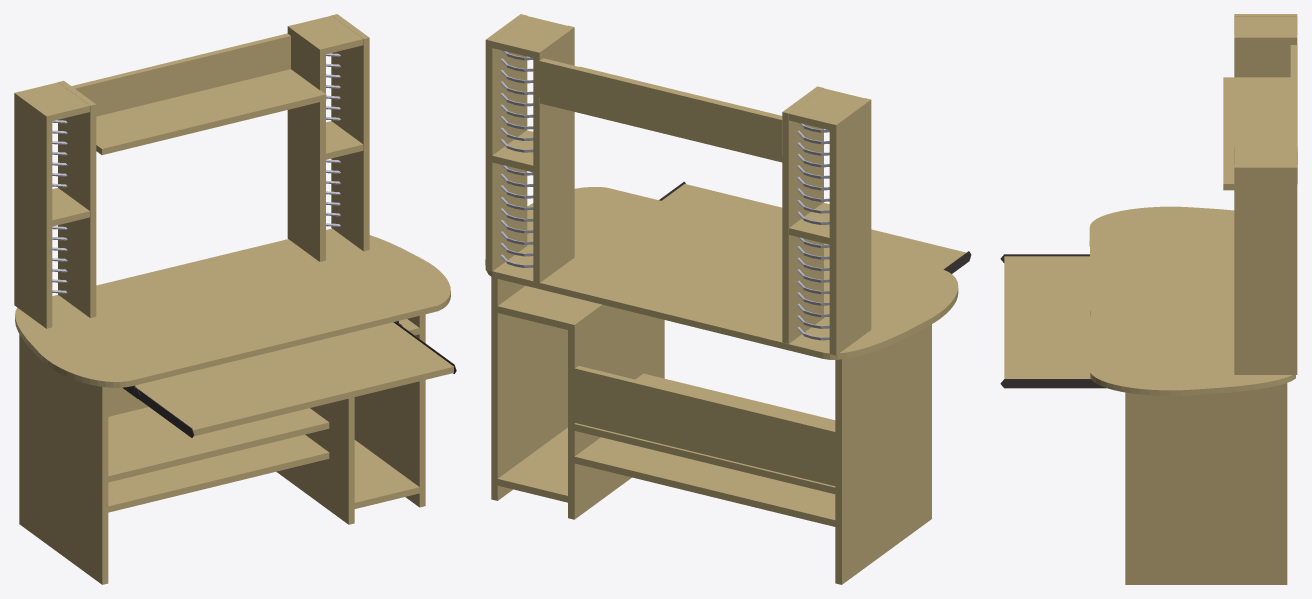
The model's file is sweethome3d-contributions-computer-desk-173.glb.
The picture shows the model from 3 angles, left to right: view 1: azimuth 30°, elevation 25°; view 2: azimuth 150°, elevation 25°; view 3: azimuth 270°, elevation 25°; orthographic projection. The views are drawn at different scales.
Visible parts, largest first — view 1: Circle_Wood_Wood_Wood_Circle_Wood_Wood_Wood_Wood, Cube.008_Cube.009_Woo_Cube.008_Cube.009_Woo_Wood, Cube_Cube.001_Wood_Wo_Cube_Cube.001_Wood_Wo_Wood, Cube.017_Cube.019_Woo_Cube.017_Cube.019_Woo_Wood, Cube.003_Cube.004_Woo_Cube.003_Cube.004_Woo_Wood, Cube.007_Cube.008_Woo_Cube.007_Cube.008_Woo_Wood, Cube.018_Cube.020_Woo_Cube.018_Cube.020_Woo_Wood, Cube.016_Cube.018_Woo_Cube.016_Cube.018_Woo_Wood, Cube.010_Cube.012_Woo_Cube.010_Cube.012_Woo_Wood, Cube.015_Cube.017_Woo_Cube.015_Cube.017_Woo_Wood, Cube.006_Cube.007_Woo_Cube.006_Cube.007_Woo_Wood, Cube.001_Cube.002_Woo_Cube.001_Cube.002_Woo_Wood (+10 smaller); view 2: Circle_Wood_Wood_Wood_Circle_Wood_Wood_Wood_Wood, Cube_Cube.001_Wood_Wo_Cube_Cube.001_Wood_Wo_Wood, Cube.009_Cube.011_Woo_Cube.009_Cube.011_Woo_Wood, Cube.001_Cube.002_Woo_Cube.001_Cube.002_Woo_Wood, Cube.003_Cube.004_Woo_Cube.003_Cube.004_Woo_Wood, Cube.018_Cube.020_Woo_Cube.018_Cube.020_Woo_Wood, Cube.002_Cube.003_Woo_Cube.002_Cube.003_Woo_Wood, Cube.006_Cube.007_Woo_Cube.006_Cube.007_Woo_Wood, Cube.016_Cube.018_Woo_Cube.016_Cube.018_Woo_Wood, Cube.015_Cube.017_Woo_Cube.015_Cube.017_Woo_Wood, Cube.010_Cube.012_Woo_Cube.010_Cube.012_Woo_Wood, Cube.008_Cube.009_Woo_Cube.008_Cube.009_Woo_Wood (+12 smaller); view 3: Cube.001_Cube.002_Woo_Cube.001_Cube.002_Woo_Wood, Circle_Wood_Wood_Wood_Circle_Wood_Wood_Wood_Wood, Cube.015_Cube.017_Woo_Cube.015_Cube.017_Woo_Wood, Cube.008_Cube.009_Woo_Cube.008_Cube.009_Woo_Wood, Cube.017_Cube.019_Woo_Cube.017_Cube.019_Woo_Wood, Cube.010_Cube.012_Woo_Cube.010_Cube.012_Woo_Wood, Cube.012_Cube.014_Woo_Cube.012_Cube.014_Woo_Wood, Cube.013_Cube.015_Woo_Cube.013_Cube.015_Woo_Wood, Circle.004_Circle.006_Circle.004_Circle.006_black_metal, Cube.018_Cube.020_Woo_Cube.018_Cube.020_Woo_Wood.
Part boxes in pixels (<box>): Circle_Wood_Wood_Wood_Circle_Wood_Wood_Wood_Wood: <box>15,228,450,387</box>; Cube.008_Cube.009_Woo_Cube.008_Cube.009_Woo_Wood: <box>135,322,453,436</box>; Cube_Cube.001_Wood_Wo_Cube_Cube.001_Wood_Wo_Wood: <box>19,334,108,584</box>; Cube.017_Cube.019_Woo_Cube.017_Cube.019_Woo_Wood: <box>96,69,326,154</box>; Cube.003_Cube.004_Woo_Cube.003_Cube.004_Woo_Wood: <box>14,91,52,328</box>; Cube.007_Cube.008_Woo_Cube.007_Cube.008_Woo_Wood: <box>108,407,329,482</box>; Cube.018_Cube.020_Woo_Cube.018_Cube.020_Woo_Wood: <box>71,33,290,116</box>; Cube.016_Cube.018_Woo_Cube.016_Cube.018_Woo_Wood: <box>287,24,325,261</box>; Cube.010_Cube.012_Woo_Cube.010_Cube.012_Woo_Wood: <box>58,80,96,317</box>; Cube.015_Cube.017_Woo_Cube.015_Cube.017_Woo_Wood: <box>331,14,369,251</box>; Cube.006_Cube.007_Woo_Cube.006_Cube.007_Woo_Wood: <box>108,434,329,512</box>; Cube.001_Cube.002_Woo_Cube.001_Cube.002_Woo_Wood: <box>354,314,425,507</box>; Circle_Wood_Wood_Wood_Circle_Wood_Wood_Wood_Wood: <box>485,187,958,359</box>; Cube_Cube.001_Wood_Wo_Cube_Cube.001_Wood_Wo_Wood: <box>835,324,931,584</box>; Cube.009_Cube.011_Woo_Cube.009_Cube.011_Woo_Wood: <box>574,366,835,485</box>; Cube.001_Cube.002_Woo_Cube.001_Cube.002_Woo_Wood: <box>491,277,567,500</box>; Cube.003_Cube.004_Woo_Cube.003_Cube.004_Woo_Wood: <box>829,98,871,355</box>; Cube.018_Cube.020_Woo_Cube.018_Cube.020_Woo_Wood: <box>538,58,782,156</box>; Cube.002_Cube.003_Woo_Cube.002_Cube.003_Woo_Wood: <box>568,303,664,519</box>; Cube.006_Cube.007_Woo_Cube.006_Cube.007_Woo_Wood: <box>574,437,835,526</box>; Cube.016_Cube.018_Woo_Cube.016_Cube.018_Woo_Wood: <box>533,25,574,282</box>; Cube.015_Cube.017_Woo_Cube.015_Cube.017_Woo_Wood: <box>485,14,527,271</box>; Cube.010_Cube.012_Woo_Cube.010_Cube.012_Woo_Wood: <box>782,86,823,343</box>; Cube.008_Cube.009_Woo_Cube.008_Cube.009_Woo_Wood: <box>662,184,965,269</box>; Cube.001_Cube.002_Woo_Cube.001_Cube.002_Woo_Wood: <box>1125,383,1287,584</box>; Circle_Wood_Wood_Wood_Circle_Wood_Wood_Wood_Wood: <box>1089,206,1295,395</box>; Cube.015_Cube.017_Woo_Cube.015_Cube.017_Woo_Wood: <box>1234,165,1297,374</box>; Cube.008_Cube.009_Woo_Cube.008_Cube.009_Woo_Wood: <box>1004,256,1090,378</box>; Cube.017_Cube.019_Woo_Cube.017_Cube.019_Woo_Wood: <box>1223,77,1290,190</box>; Cube.010_Cube.012_Woo_Cube.010_Cube.012_Woo_Wood: <box>1234,34,1297,77</box>; Cube.012_Cube.014_Woo_Cube.012_Cube.014_Woo_Wood: <box>1234,17,1296,34</box>; Cube.013_Cube.015_Woo_Cube.013_Cube.015_Woo_Wood: <box>1234,147,1296,164</box>; Circle.004_Circle.006_Circle.004_Circle.006_black_metal: <box>1000,379,1106,388</box>; Cube.018_Cube.020_Woo_Cube.018_Cube.020_Woo_Wood: <box>1290,45,1297,183</box>.
Size of the model in its own units: 5.37 by 5.68 by 3.67.
